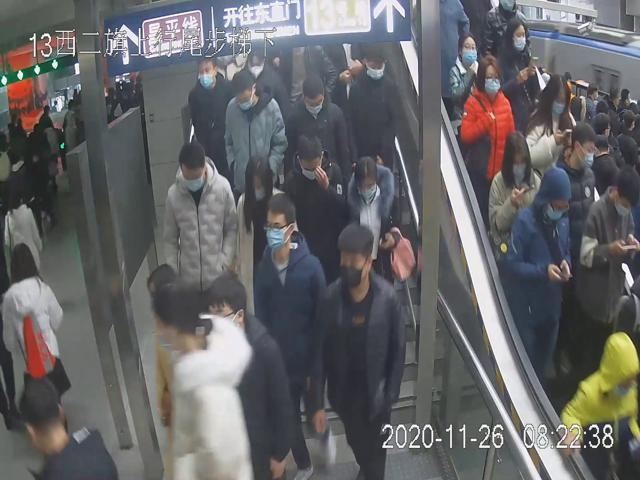person: (319, 216, 406, 478), (251, 194, 327, 418), (504, 167, 572, 373), (161, 141, 238, 295), (344, 152, 415, 287), (234, 150, 289, 314), (456, 55, 514, 199), (281, 133, 344, 262), (222, 70, 286, 189), (487, 133, 544, 264), (344, 44, 405, 155), (187, 47, 235, 158), (285, 76, 347, 160)
